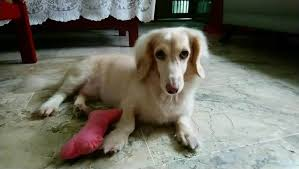dog: (152, 43, 192, 97)
